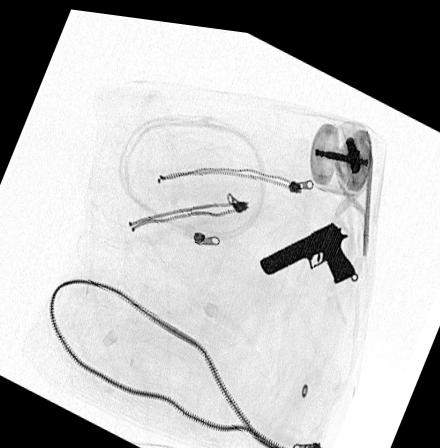Gun: (259, 210, 357, 274)
